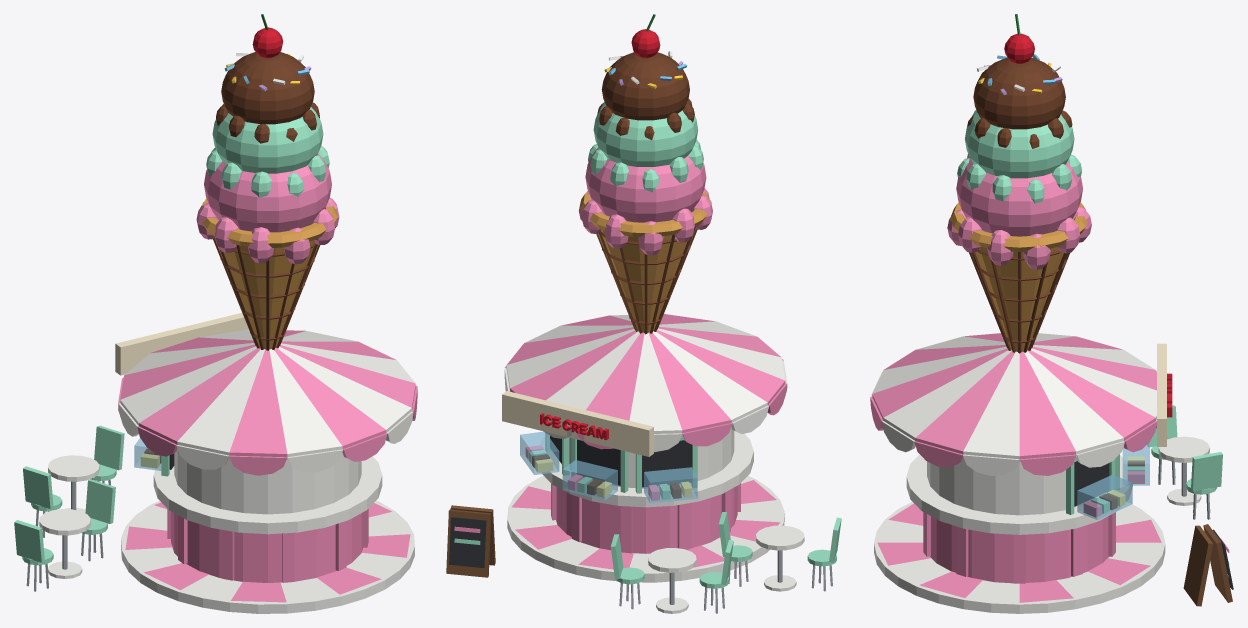
Rendered from IceCreamKiosk.fbx.
The picture shows the model from 3 angles, left to right: view 1: azimuth 30°, elevation 25°; view 2: azimuth 150°, elevation 25°; view 3: azimuth 270°, elevation 25°; orthographic projection. The views are drawn at different scales.
Parts seen in each view (by area): view 1: IceCreamKiosk_White, IceCreamKiosk_Pink, IceCreamKiosk_Mint, IceCreamKiosk_Chocolate, IceCreamKiosk_Waffle, IceCreamKiosk_Cream, IceCreamKiosk_Metal, IceCreamKiosk_Cherry, IceCreamKiosk_Glass; view 2: IceCreamKiosk_Pink, IceCreamKiosk_White, IceCreamKiosk_Mint, IceCreamKiosk_Chocolate, IceCreamKiosk_Charcoal, IceCreamKiosk_Glass, IceCreamKiosk_Waffle, IceCreamKiosk_Cream, IceCreamKiosk_WoodDark, IceCreamKiosk_Cherry, IceCreamKiosk_Metal, IceCreamKiosk_Lemon; view 3: IceCreamKiosk_Pink, IceCreamKiosk_White, IceCreamKiosk_Chocolate, IceCreamKiosk_Mint, IceCreamKiosk_Waffle, IceCreamKiosk_Glass, IceCreamKiosk_WoodDark, IceCreamKiosk_Charcoal, IceCreamKiosk_Cream, IceCreamKiosk_Cherry, IceCreamKiosk_Metal.
Part boxes in pixels (x1,y1,x2,y2): IceCreamKiosk_White: (39,53,417,613); IceCreamKiosk_Pink: (118,153,417,602); IceCreamKiosk_Mint: (14,104,329,565); IceCreamKiosk_Chocolate: (144,52,320,463); IceCreamKiosk_Waffle: (199,198,337,349); IceCreamKiosk_Cream: (115,313,248,375); IceCreamKiosk_Metal: (26,479,110,591); IceCreamKiosk_Cherry: (252,27,283,58); IceCreamKiosk_Glass: (134,438,161,470); IceCreamKiosk_Pink: (454,147,786,569); IceCreamKiosk_White: (504,51,804,613); IceCreamKiosk_Mint: (454,102,841,588); IceCreamKiosk_Chocolate: (532,52,697,498); IceCreamKiosk_Charcoal: (449,435,692,567); IceCreamKiosk_Glass: (520,431,697,503); IceCreamKiosk_Waffle: (580,191,711,332); IceCreamKiosk_Cream: (502,391,653,456); IceCreamKiosk_WoodDark: (446,505,495,577); IceCreamKiosk_Cherry: (540,29,660,440); IceCreamKiosk_Metal: (619,550,832,613); IceCreamKiosk_Lemon: (535,458,692,497); IceCreamKiosk_Pink: (870,155,1229,602); IceCreamKiosk_White: (870,64,1209,613); IceCreamKiosk_Chocolate: (967,57,1144,509); IceCreamKiosk_Mint: (957,110,1229,565); IceCreamKiosk_Waffle: (950,202,1087,351); IceCreamKiosk_Glass: (1077,442,1149,519); IceCreamKiosk_WoodDark: (1183,524,1232,606); IceCreamKiosk_Charcoal: (1074,461,1233,589); IceCreamKiosk_Cream: (1157,343,1166,446); IceCreamKiosk_Cherry: (1004,33,1172,417); IceCreamKiosk_Metal: (1158,459,1210,519).
Size of the model in its own units: 23.96 by 34.43 by 21.21.
